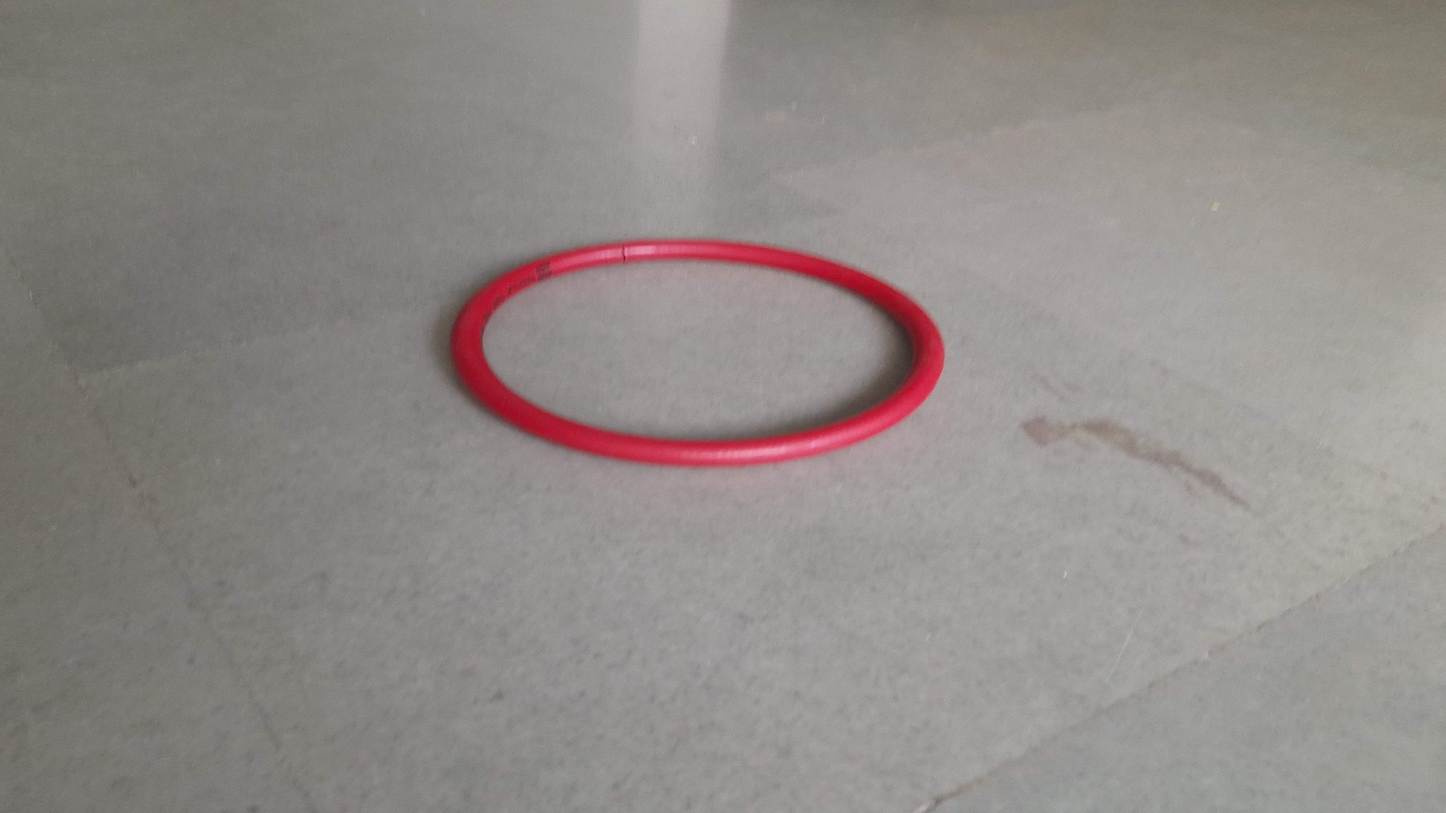Red ring: (450, 240, 946, 467)
